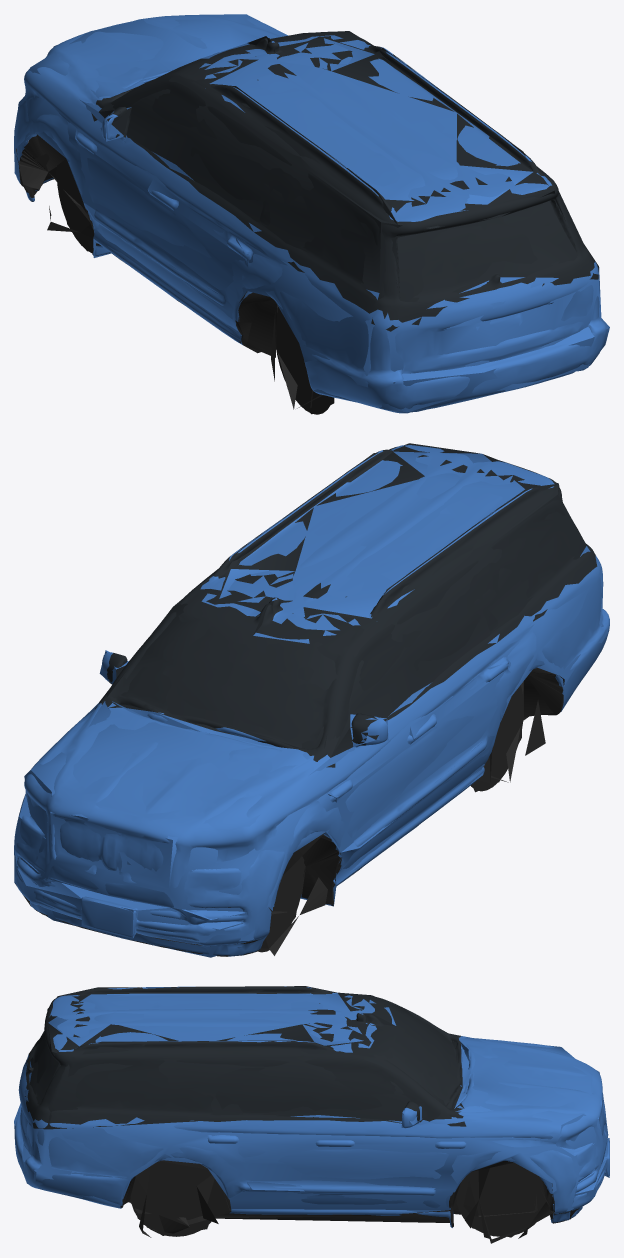
File: lincoln-navigator.glb
3 views of the same model, one above another, from view 1: azimuth 30°, elevation 25°; view 2: azimuth 150°, elevation 25°; view 3: azimuth 270°, elevation 25° (orthographic). The views are drawn at different scales.
Parts seen in each view (by area): view 1: body, far; view 2: body, far; view 3: body, far.
Boxes of the visible parts, x1,y1,x2,y2 form: body: (14, 15, 606, 414); far: (14, 14, 609, 414); body: (14, 445, 609, 956); far: (14, 443, 607, 957); body: (14, 986, 609, 1243); far: (14, 986, 609, 1242).
Size of the model in its own units: 2.25 by 1.96 by 5.52.
